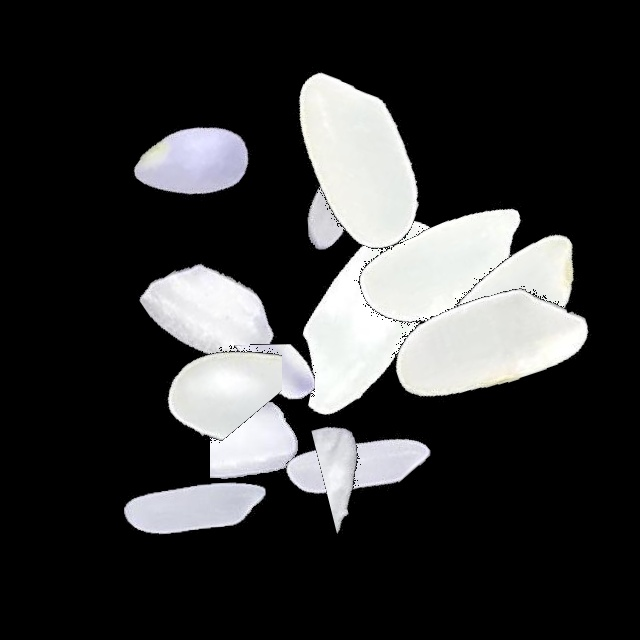Broken: (160, 366, 410, 517), (433, 102, 567, 352), (158, 235, 282, 485), (257, 421, 507, 536), (122, 344, 372, 446)
Full: (223, 61, 473, 311), (245, 191, 495, 441), (321, 144, 571, 394), (385, 183, 635, 433), (228, 36, 478, 286), (88, 193, 338, 443), (233, 336, 483, 586), (366, 217, 616, 467), (68, 382, 318, 632), (69, 35, 319, 285)
